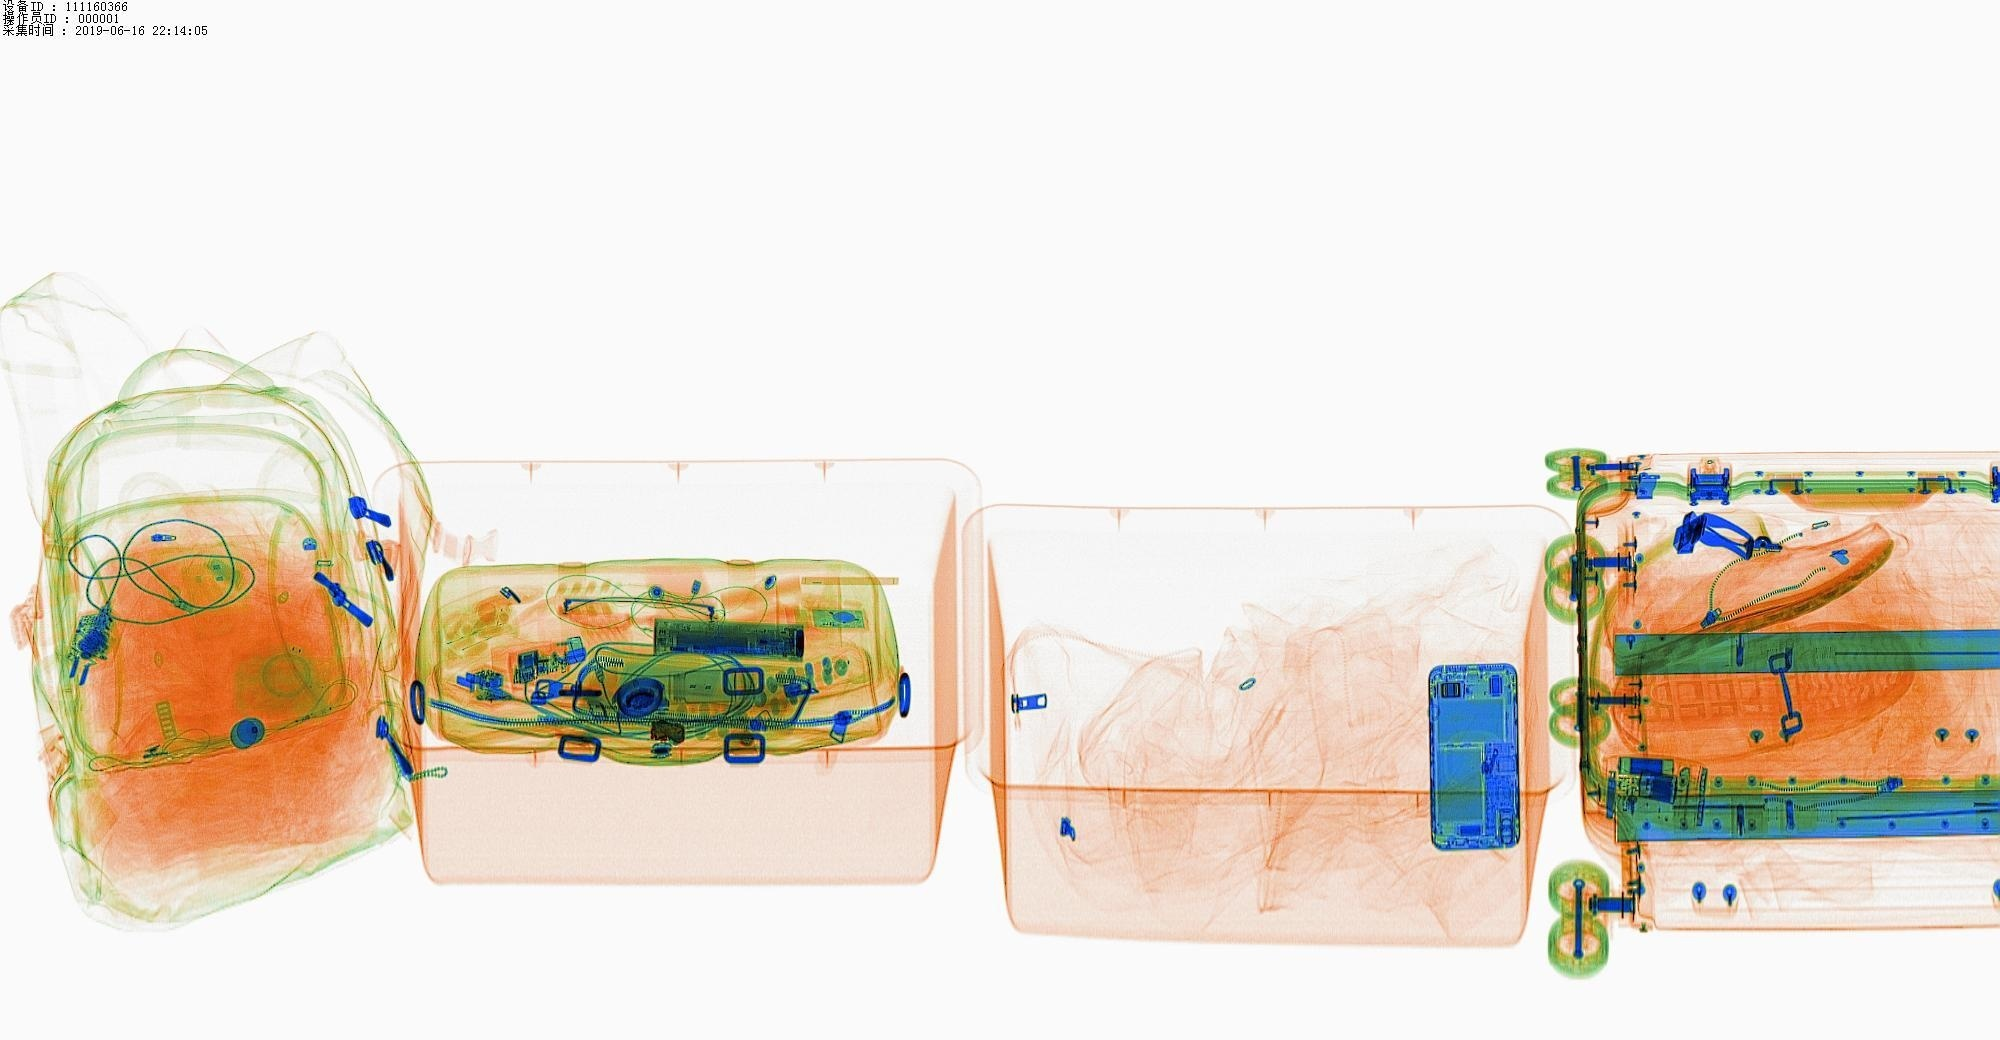NonmetallicFire: (491, 621, 620, 685)
